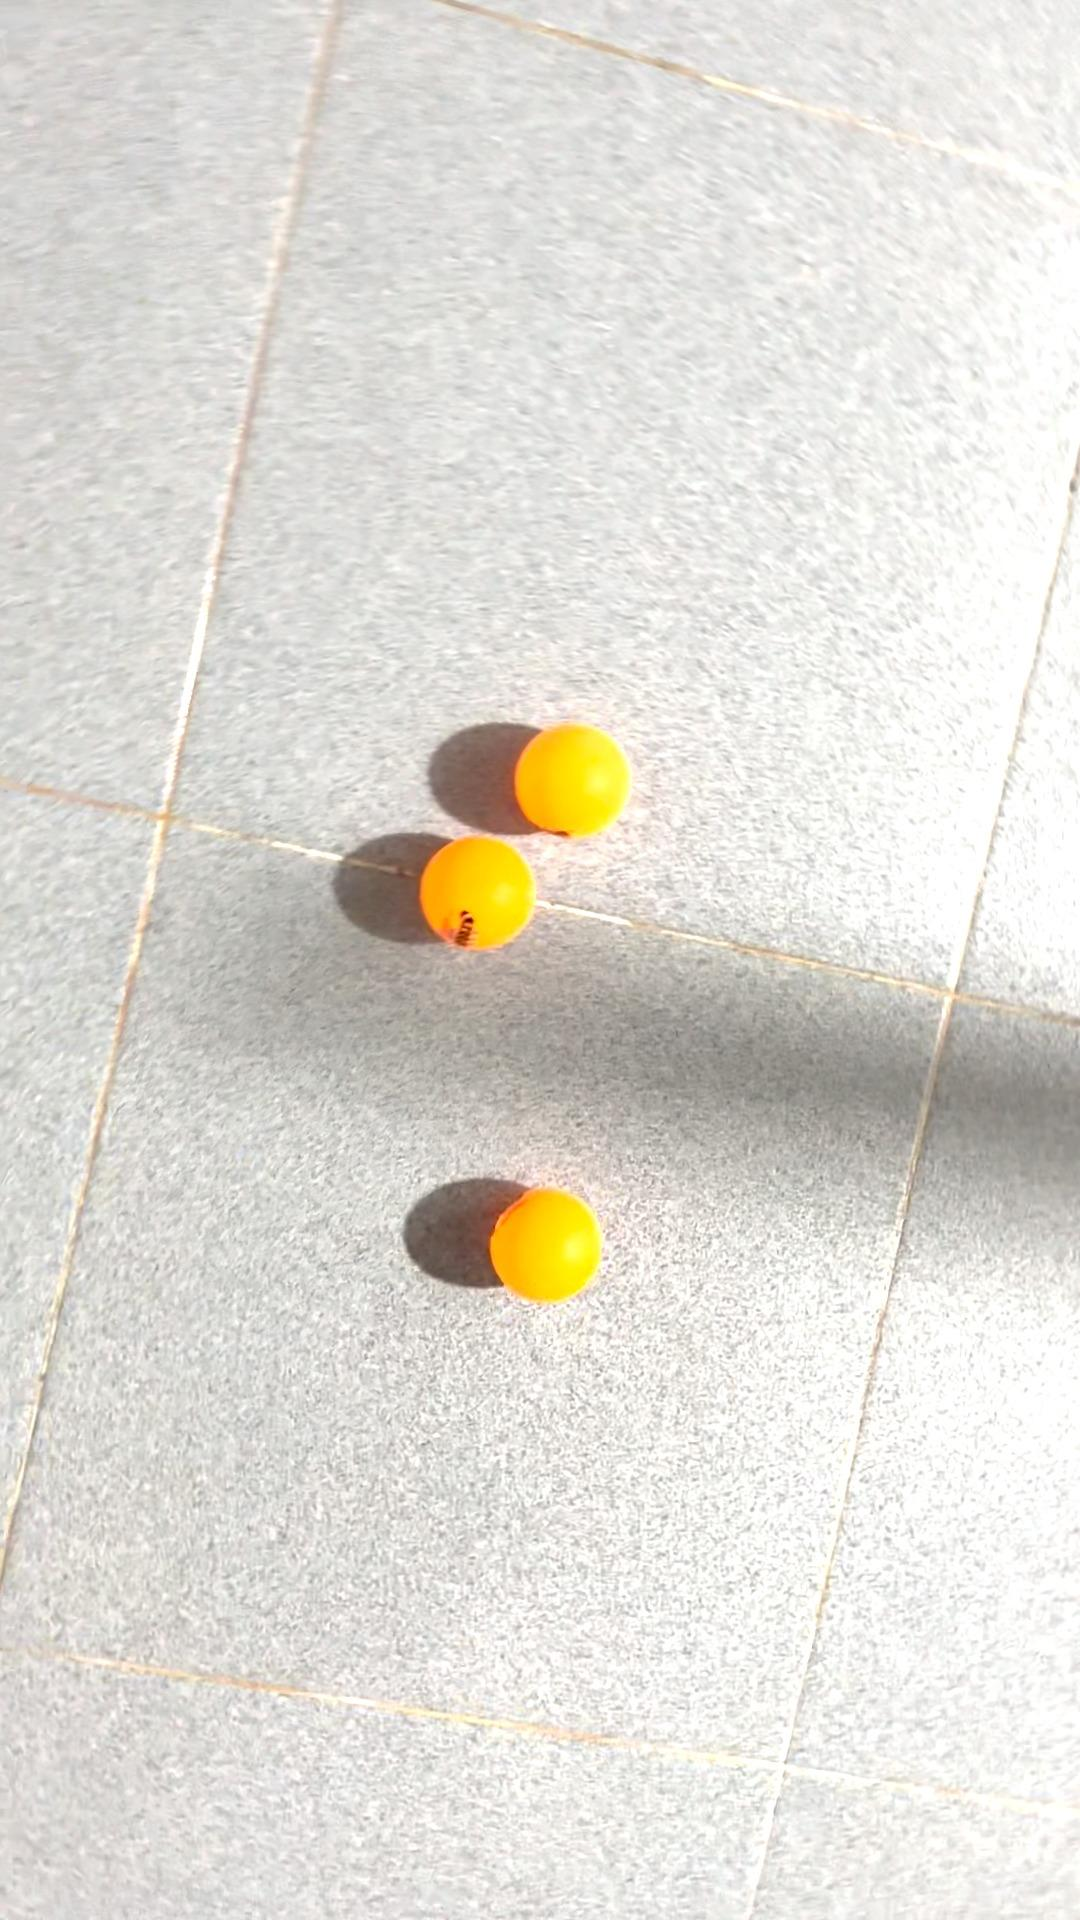oball: (508, 713, 655, 857), (481, 1171, 621, 1312), (414, 824, 553, 967)
